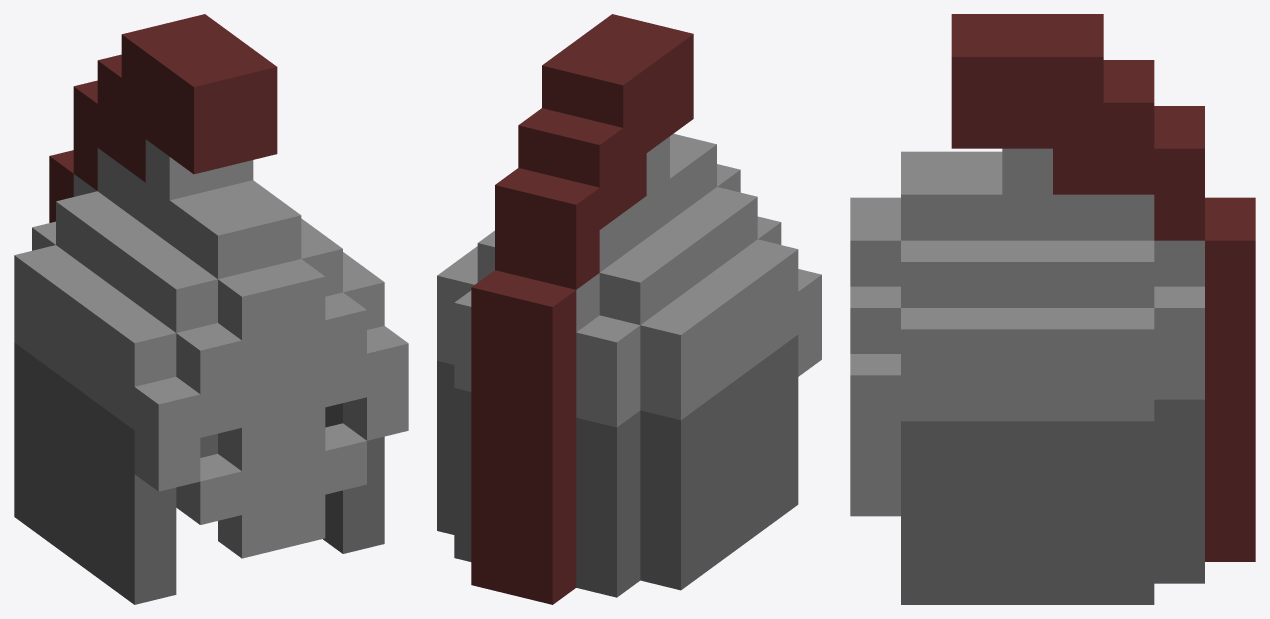
File: char-61-helm_med_2b_ja.obj
The picture shows the model from 3 angles, left to right: view 1: azimuth 30°, elevation 25°; view 2: azimuth 150°, elevation 25°; view 3: azimuth 270°, elevation 25°; orthographic projection. The views are drawn at different scales.
Parts seen in each view (by area): view 1: helm_med_2b_ja; view 2: helm_med_2b_ja; view 3: helm_med_2b_ja.
Part boxes in pixels (bbox=[...]): helm_med_2b_ja: bbox=[14, 14, 408, 604]; helm_med_2b_ja: bbox=[437, 14, 821, 604]; helm_med_2b_ja: bbox=[850, 14, 1255, 604].
Size of the model in its own units: 0.6 by 1.1 by 0.8.
Materials: 1 (1 with a texture image).
